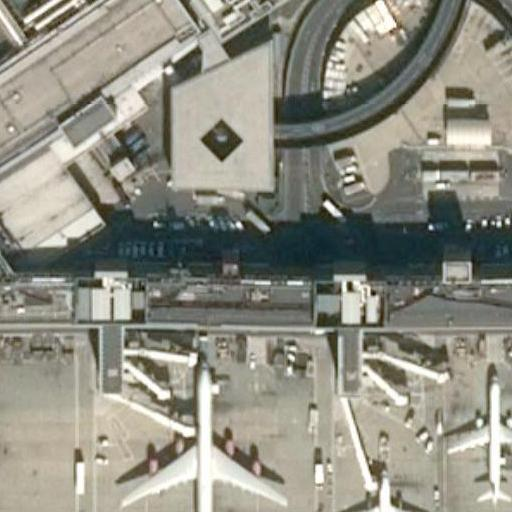Aircraft: (114, 366, 293, 512), (440, 369, 512, 504), (330, 468, 429, 512)
